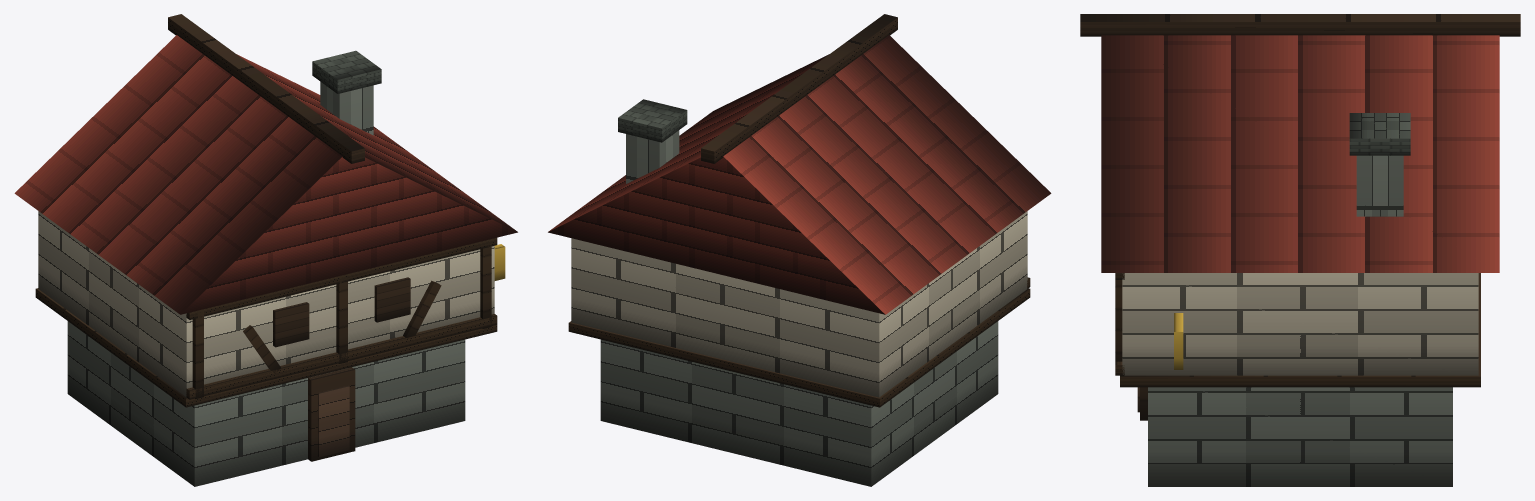
The model's file is tavern.glb.
The picture shows the model from 3 angles, left to right: view 1: azimuth 30°, elevation 25°; view 2: azimuth 150°, elevation 25°; view 3: azimuth 270°, elevation 25°; orthographic projection. The views are drawn at different scales.
Visible parts, largest first — view 1: tavern; view 2: tavern; view 3: tavern.
Part boxes in pixels (<box>): tavern: <box>14,14,517,486</box>; tavern: <box>548,14,1051,486</box>; tavern: <box>1080,14,1520,486</box>.
Size of the model in its own units: 2.1 by 1.83 by 1.88.
Materials: 1 (1 with a texture image).
